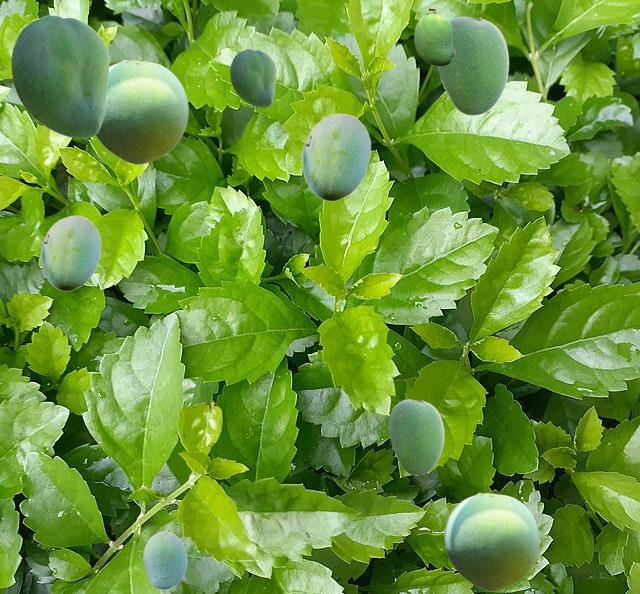green_mango: (11, 15, 108, 137), (95, 59, 187, 163), (444, 492, 538, 590), (437, 16, 508, 114), (301, 113, 370, 200), (40, 215, 100, 290), (388, 399, 443, 474), (230, 49, 275, 106), (143, 531, 186, 588), (414, 8, 454, 65)
